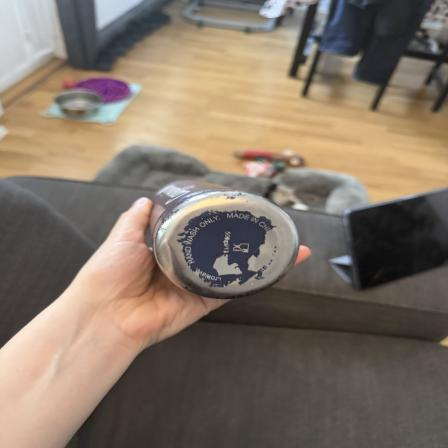blue_bottle: (143, 180, 301, 300)
